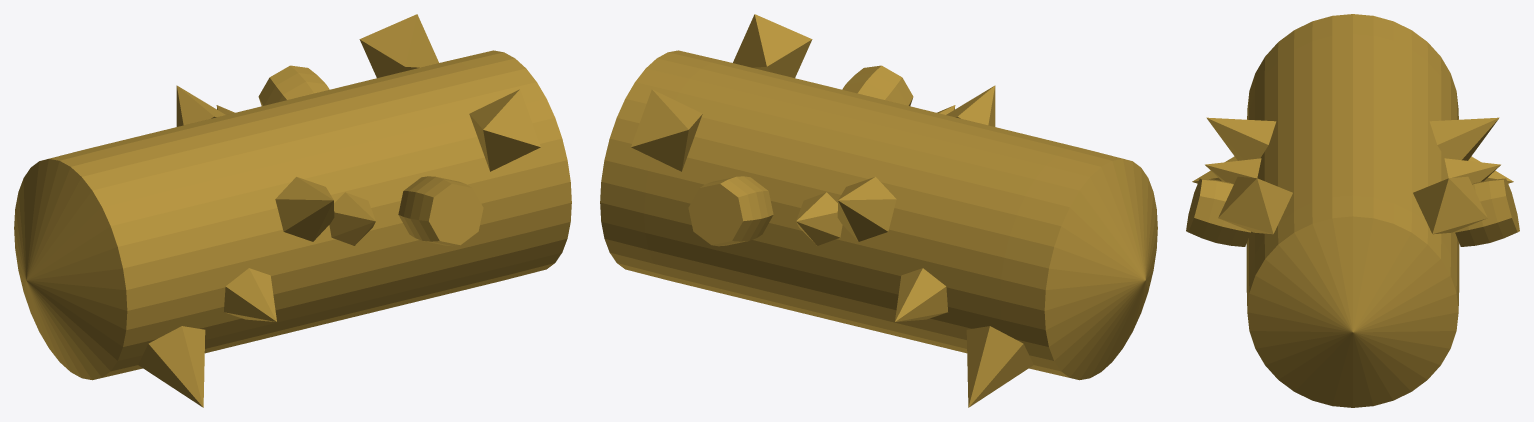
File: exp1_ovoid_cylinder_sym_02.glb
3 renders of one model, left to right at view 1: azimuth 30°, elevation 25°; view 2: azimuth 150°, elevation 25°; view 3: azimuth 270°, elevation 25°, orthographic. The views are drawn at different scales.
Visible parts, largest first — view 1: exp1_ovoid_cylinder_sym_02; view 2: exp1_ovoid_cylinder_sym_02; view 3: exp1_ovoid_cylinder_sym_02.
Part boxes in pixels (box(x1,y1,x2,y2)): exp1_ovoid_cylinder_sym_02: box(14, 14, 571, 407); exp1_ovoid_cylinder_sym_02: box(600, 14, 1157, 407); exp1_ovoid_cylinder_sym_02: box(1186, 14, 1519, 407).
Size of the model in its own units: 3.52 by 1.41 by 2.04.
